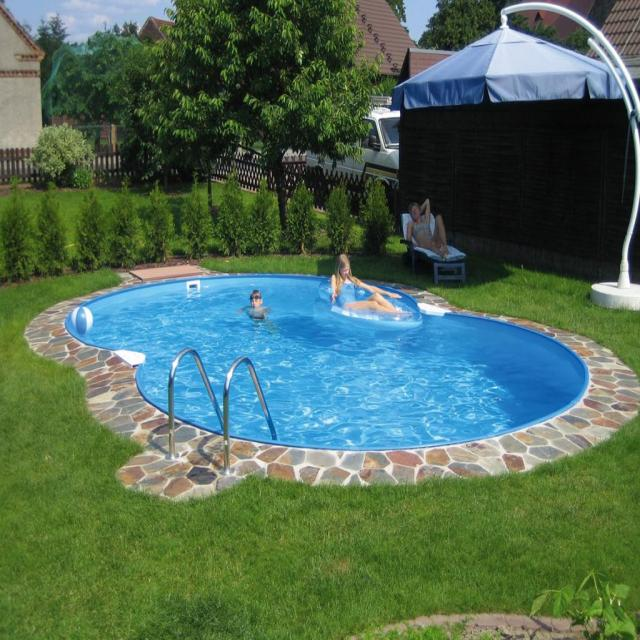nomask: (250, 293, 260, 310), (339, 262, 349, 278), (410, 204, 420, 219)
